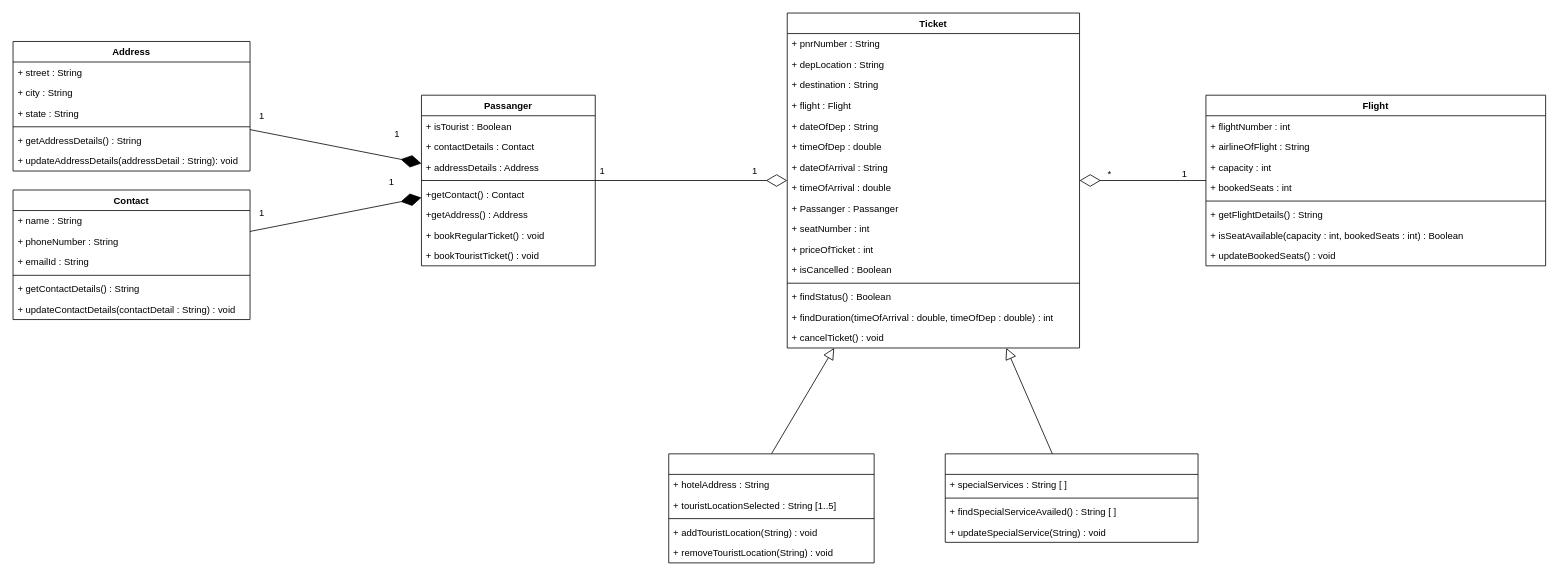
The diagram is 1559 pixels wide and 576 high, and some of its shapes have lost their labels. The shapes that lost their labels are listed below. From the top down, each one's box as (x1, y1, x2, y2) in pixels, then its label:
(668, 453, 874, 563): TouristTicket
(944, 453, 1198, 542): RegularTicket
